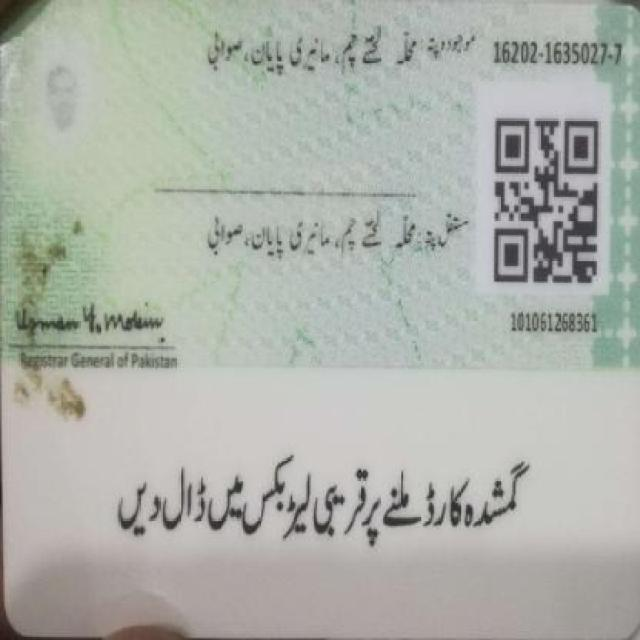Back: (4, 8, 634, 629)
